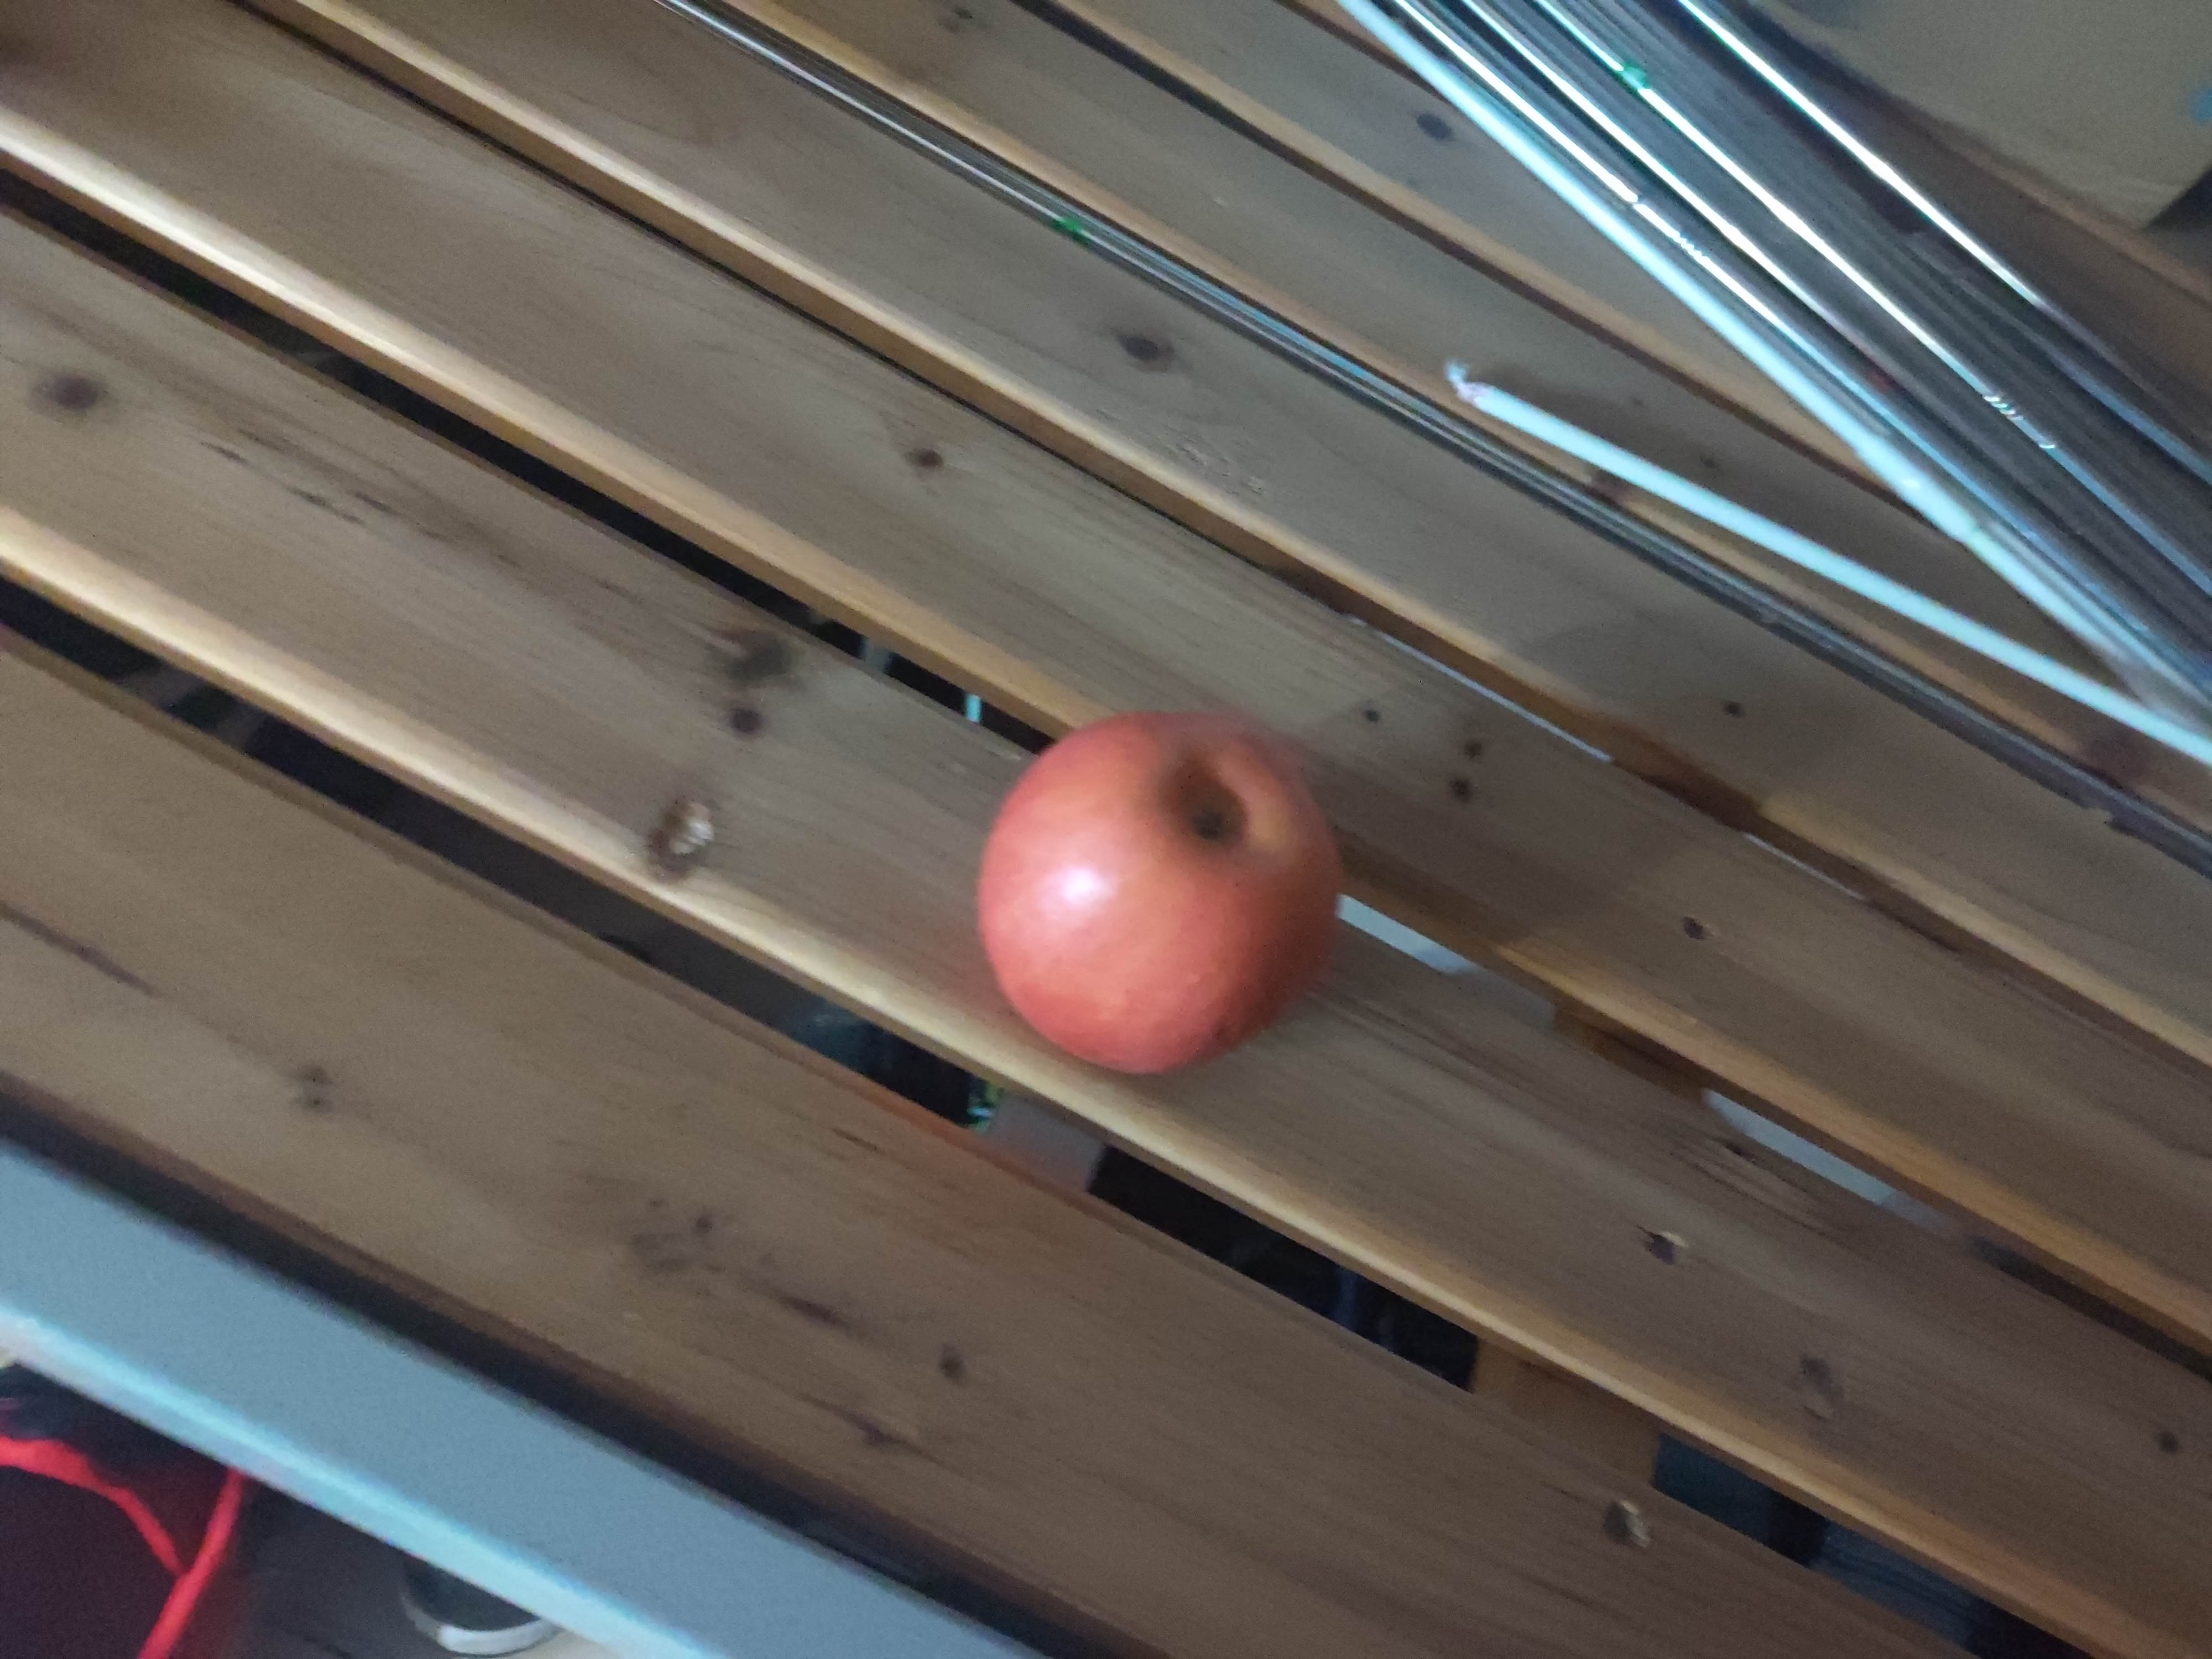apple: (974, 708, 1348, 1077)
